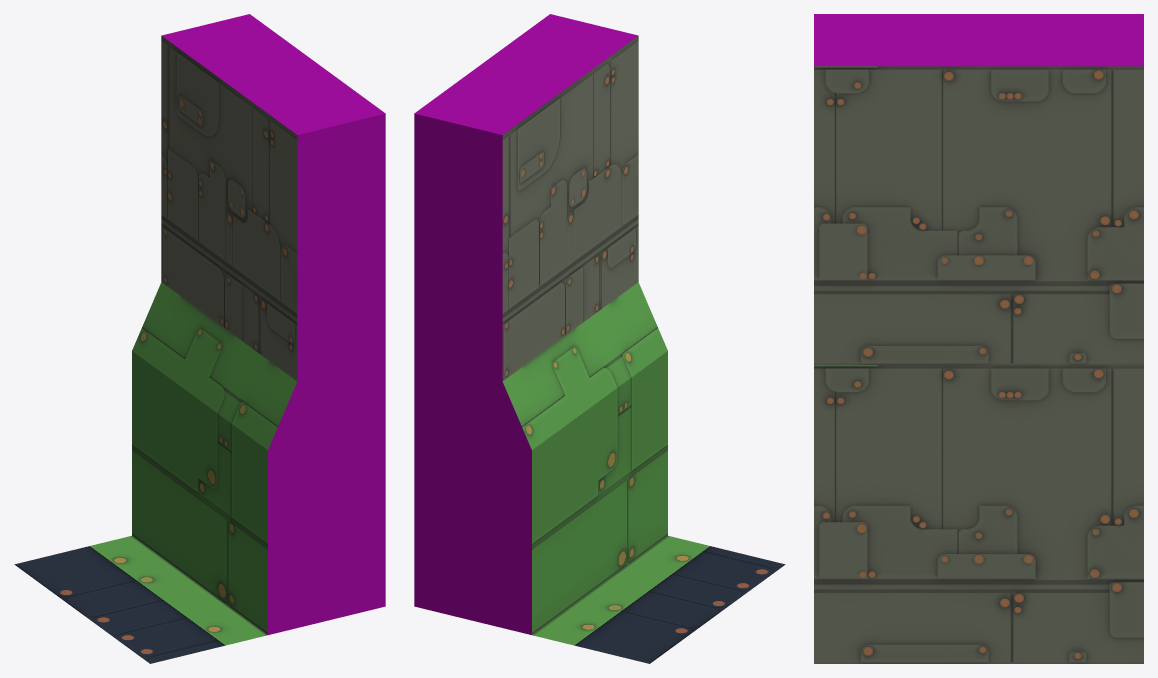
File: Wall_Short_Top.fbx
The picture shows the model from 3 angles, left to right: view 1: azimuth 30°, elevation 25°; view 2: azimuth 150°, elevation 25°; view 3: azimuth 270°, elevation 25°; orthographic projection. The views are drawn at different scales.
Parts seen in each view (by area): view 1: Wall_Short_Top, Wall_Short, Floor_Edge_Short; view 2: Wall_Short_Top, Wall_Short, Floor_Edge_Short; view 3: Wall_Short_Top, Wall_Short.
Boxes of the visible parts, left/top/right/bottom form: Wall_Short_Top: left=161, top=14, right=385, bottom=381; Wall_Short: left=132, top=282, right=385, bottom=634; Floor_Edge_Short: left=14, top=536, right=267, bottom=663; Wall_Short_Top: left=414, top=14, right=638, bottom=381; Wall_Short: left=414, top=282, right=667, bottom=634; Floor_Edge_Short: left=532, top=536, right=785, bottom=663; Wall_Short_Top: left=814, top=14, right=1143, bottom=364; Wall_Short: left=814, top=365, right=1143, bottom=663.
Bounding box in the file's own units: 100 × 200 × 100.
